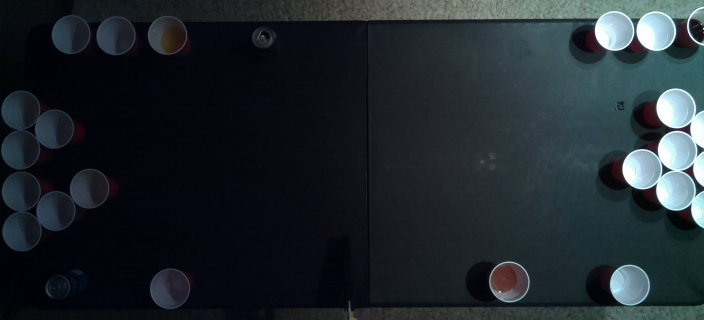active bp cup: (33, 108, 75, 149), (34, 189, 75, 231), (1, 210, 42, 252), (654, 88, 696, 129), (654, 170, 696, 211), (620, 149, 662, 190), (656, 130, 697, 171), (68, 168, 109, 208), (1, 89, 41, 130), (1, 171, 41, 211), (1, 130, 40, 170), (689, 108, 703, 150), (691, 150, 703, 189), (690, 192, 703, 228)
can: (248, 23, 275, 51), (43, 273, 71, 299)
drink cup: (145, 14, 188, 56), (487, 260, 530, 302), (685, 5, 703, 46)
inactive bp cup: (591, 8, 635, 52), (607, 263, 651, 306), (148, 265, 190, 309), (634, 10, 677, 52), (93, 15, 136, 55), (49, 14, 91, 54)
